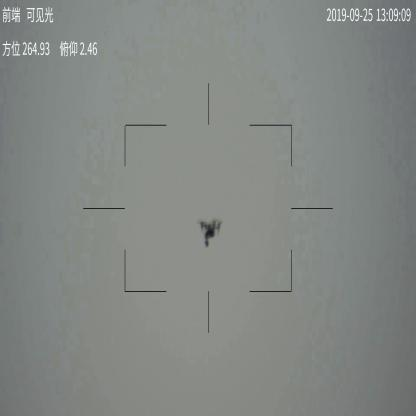uav: (198, 217, 222, 249)
